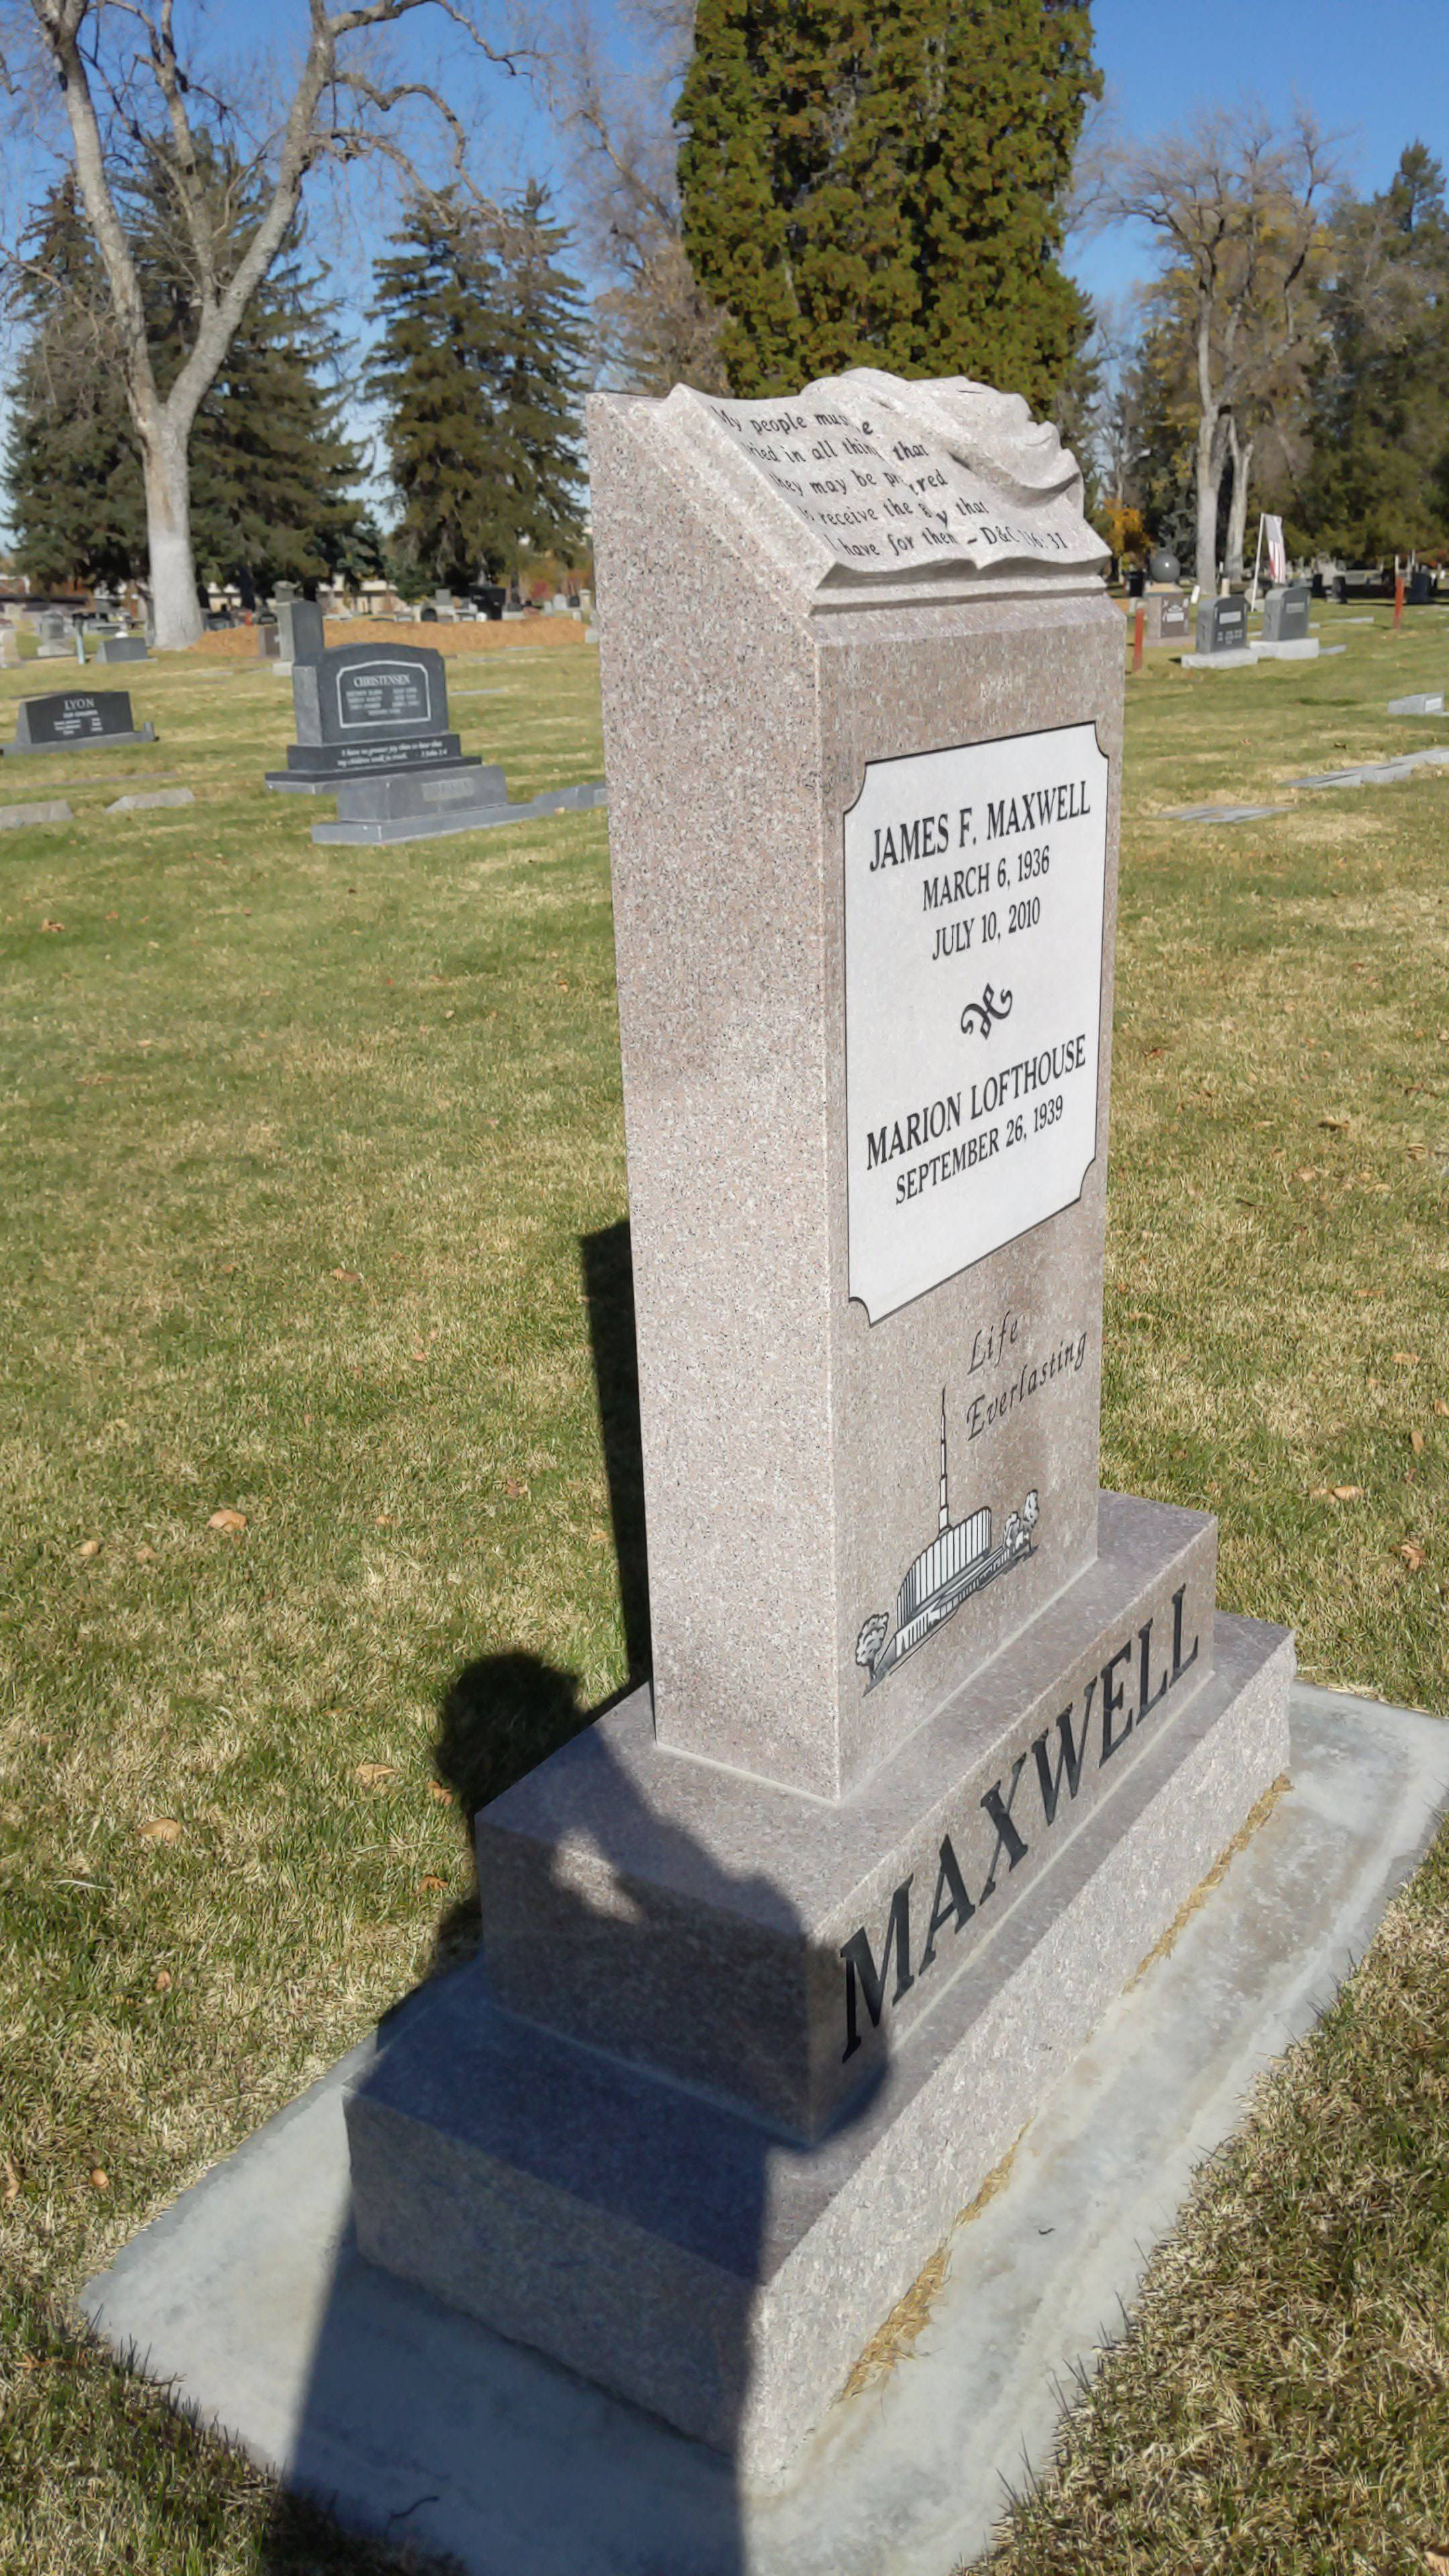upright: (490, 382, 1215, 2088)
